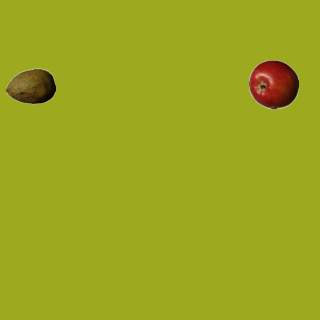Apple Braeburn: (248, 59, 298, 109)
Papaya: (5, 61, 55, 111)
